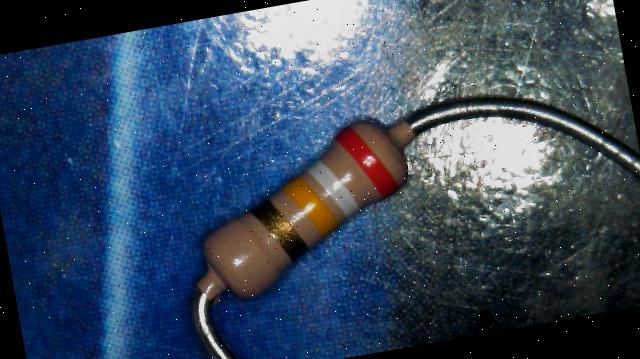gold: (249, 194, 310, 266)
orange: (336, 120, 398, 202)
resistor: (177, 92, 437, 322)
white: (306, 154, 360, 221)
yellow: (282, 171, 340, 240)
